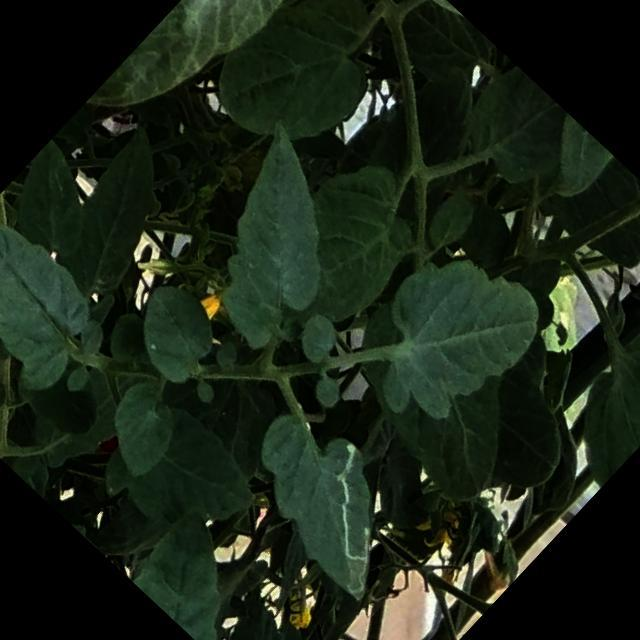Tomato target spot leaf: (210, 382, 450, 618)
